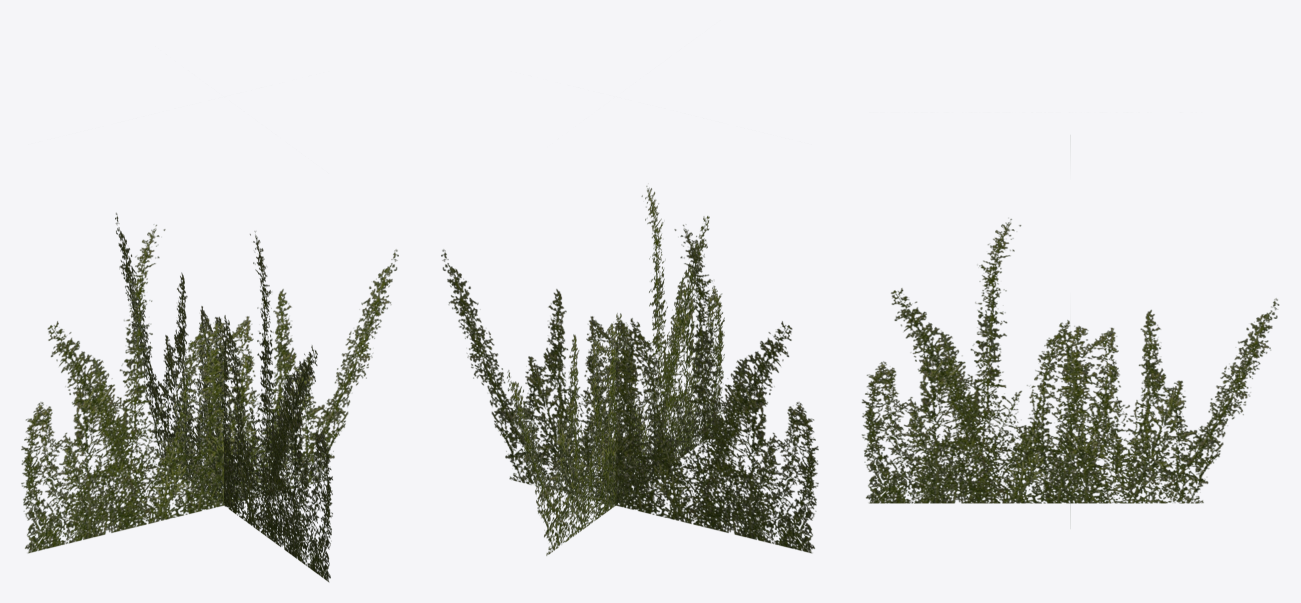
Rendered from weed2.glb.
3 renders of one model, left to right at view 1: azimuth 30°, elevation 25°; view 2: azimuth 150°, elevation 25°; view 3: azimuth 270°, elevation 25°, orthographic. The views are drawn at different scales.
Parts seen in each view (by area): view 1: Plane.002; view 2: Plane.002; view 3: Plane.002.
Part boxes in pixels (x1,y1,x2,y2): Plane.002: (21, 213, 398, 581); Plane.002: (441, 186, 818, 555); Plane.002: (861, 219, 1279, 503).
Bounding box in the file's own units: 5.47 × 5.47 × 5.47.
Materials: 1 (1 with a texture image).
